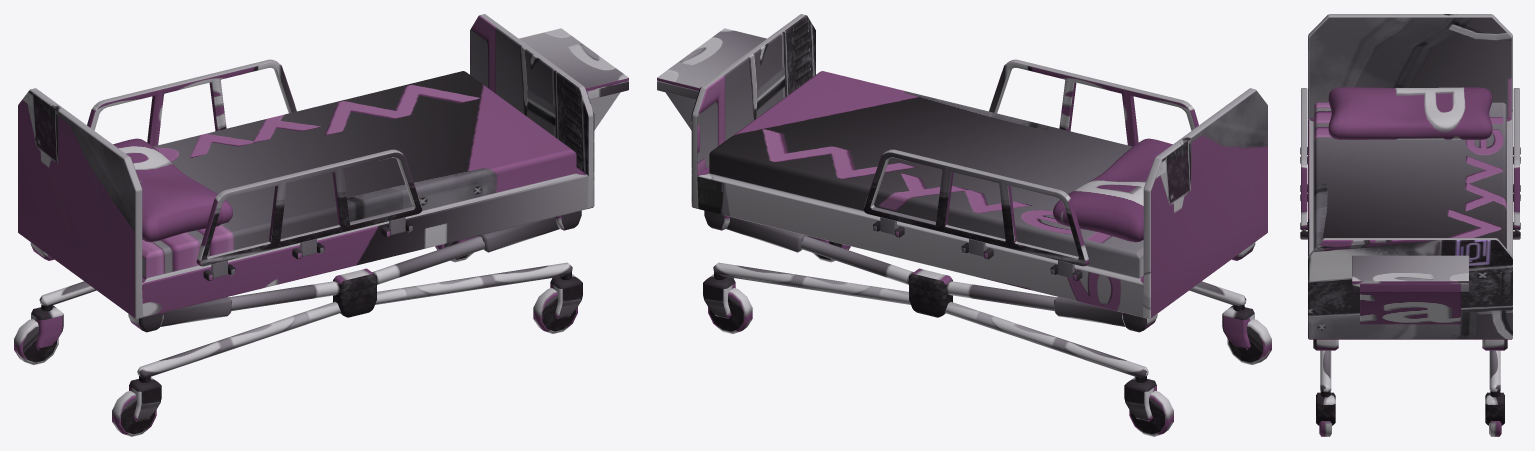
Rendered from SM_HospitalBed.fbx.
The picture shows the model from 3 angles, left to right: view 1: azimuth 30°, elevation 25°; view 2: azimuth 150°, elevation 25°; view 3: azimuth 270°, elevation 25°; orthographic projection. The views are drawn at different scales.
Parts seen in each view (by area): view 1: Bed Base, Bed Legs, Bed Railings, Bed Wheels, Pillow, Bed Box Lid, Bed Railings hinges, Bed Box; view 2: Bed Base, Bed Legs, Bed Railings, Bed Wheels, Pillow, Bed Box Lid, Bed Railings hinges, Bed Box; view 3: Bed Base, Pillow, Bed Box, Bed Box Lid, Bed Railings, Bed Wheels, Bed Legs, Bed Railings hinges.
Boxes of the visible parts, x1,y1,x2,y2 form: Bed Base: (18, 14, 594, 319); Bed Legs: (30, 210, 581, 377); Bed Railings: (87, 59, 422, 266); Bed Wheels: (14, 236, 582, 436); Pillow: (113, 138, 232, 242); Bed Box Lid: (519, 28, 628, 90); Bed Railings hinges: (203, 217, 412, 280); Bed Box: (587, 81, 628, 130); Bed Base: (691, 14, 1267, 319); Bed Legs: (704, 210, 1255, 377); Bed Railings: (863, 59, 1198, 266); Bed Wheels: (703, 236, 1271, 436); Pillow: (1053, 138, 1172, 242); Bed Box Lid: (657, 28, 766, 90); Bed Railings hinges: (873, 217, 1082, 280); Bed Box: (657, 81, 698, 130); Bed Base: (1308, 14, 1512, 339); Pillow: (1328, 87, 1492, 139); Bed Box: (1352, 283, 1468, 324); Bed Box Lid: (1352, 255, 1468, 283); Bed Railings: (1301, 88, 1519, 229); Bed Wheels: (1316, 391, 1504, 436); Bed Legs: (1313, 339, 1507, 392); Bed Railings hinges: (1300, 147, 1520, 239).
Bounding box in the file's own units: 209 × 86.92 × 104.
